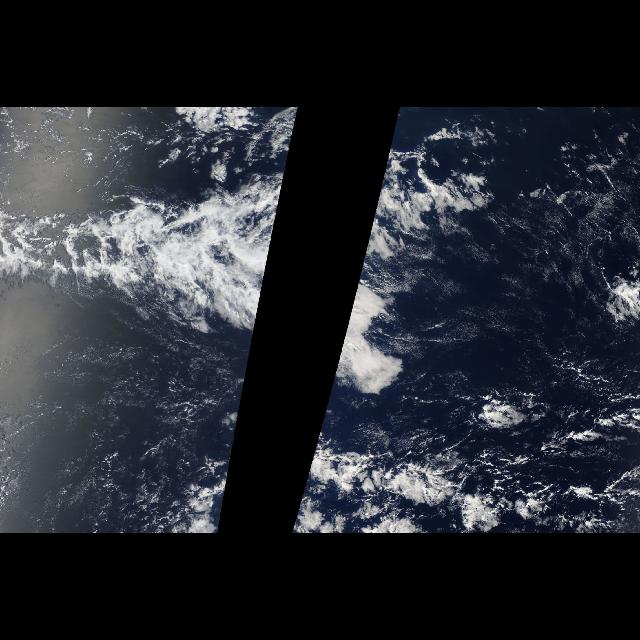Sugar: (0, 328, 202, 534)
